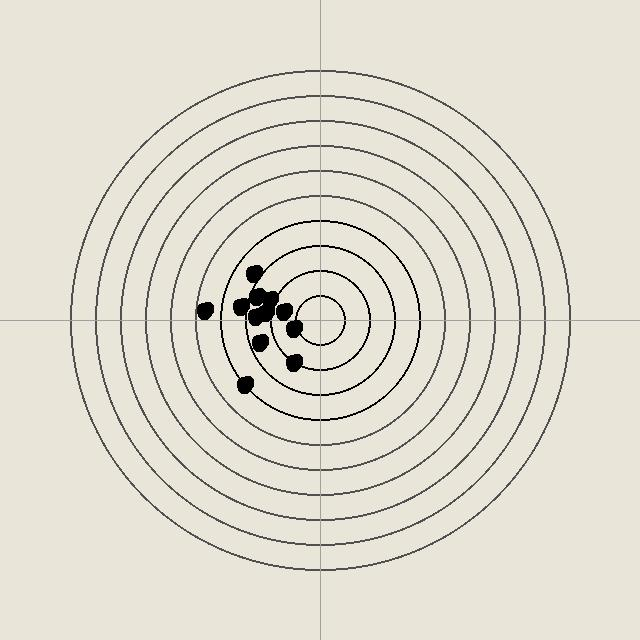good_group: (194, 300, 214, 320), (273, 301, 293, 321), (259, 289, 279, 309), (283, 318, 303, 338), (283, 352, 303, 372), (246, 286, 266, 306), (255, 302, 275, 322), (243, 263, 263, 283), (234, 374, 254, 394), (249, 332, 269, 352), (245, 306, 265, 326), (230, 296, 250, 316)
